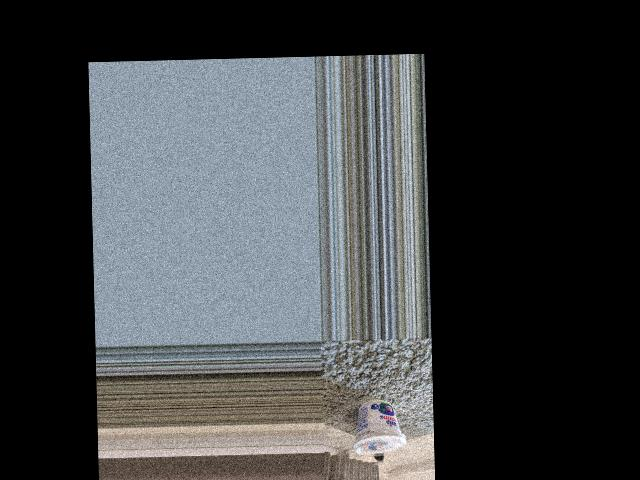cotage: (354, 397, 403, 456)
